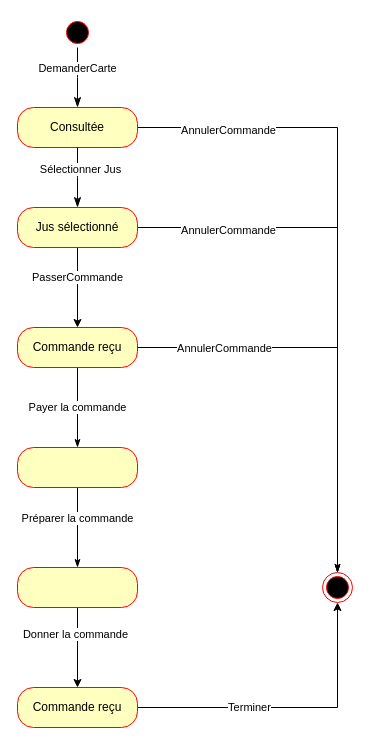
Image size: 370x745. Some labels were removed from this diagram. Each missing label, with the centre of its shape:
"Commande payée" goes at [77,467].
"Commande préparée" goes at [77,587].
